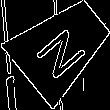N_NE: (31, 15, 93, 78)
